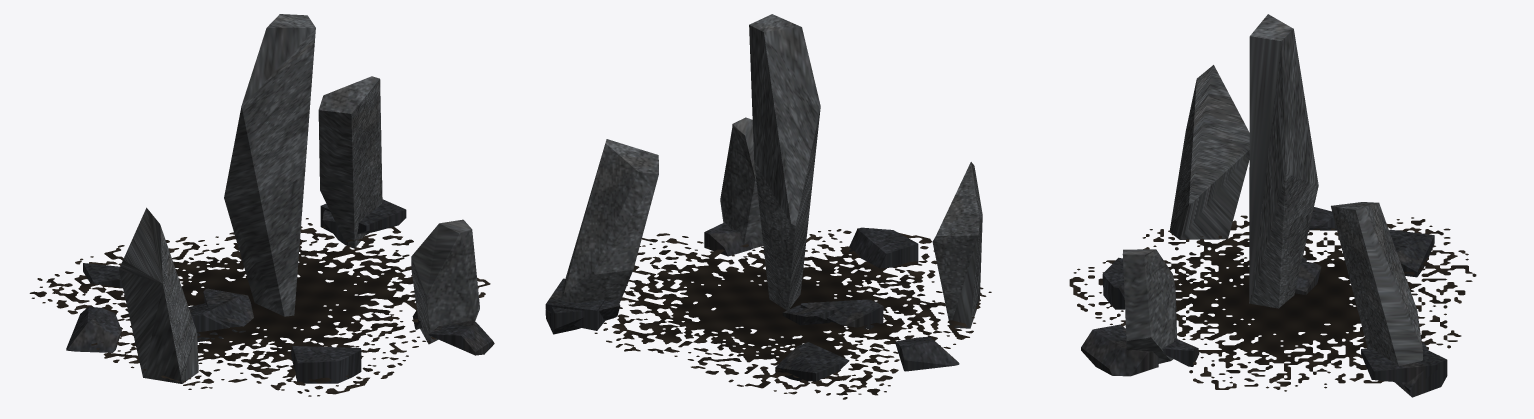
Rendered from standing_stones.glb.
3 views of the same model, side by side, from view 1: azimuth 30°, elevation 25°; view 2: azimuth 150°, elevation 25°; view 3: azimuth 270°, elevation 25° (orthographic). The views are drawn at different scales.
Parts seen in each view (by area): view 1: standing_stones; view 2: standing_stones; view 3: standing_stones.
Part boxes in pixels (x1=…): standing_stones: x1=29, y1=14, x2=494, y2=396; standing_stones: x1=545, y1=14, x2=991, y2=399; standing_stones: x1=1069, y1=14, x2=1476, y2=397.
Size of the model in its own units: 2.03 by 1.3 by 1.87.
Materials: 2 (2 with a texture image).
